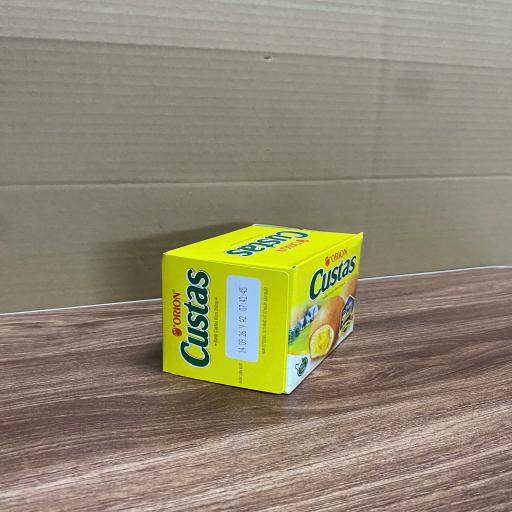custas: (162, 223, 363, 395)
